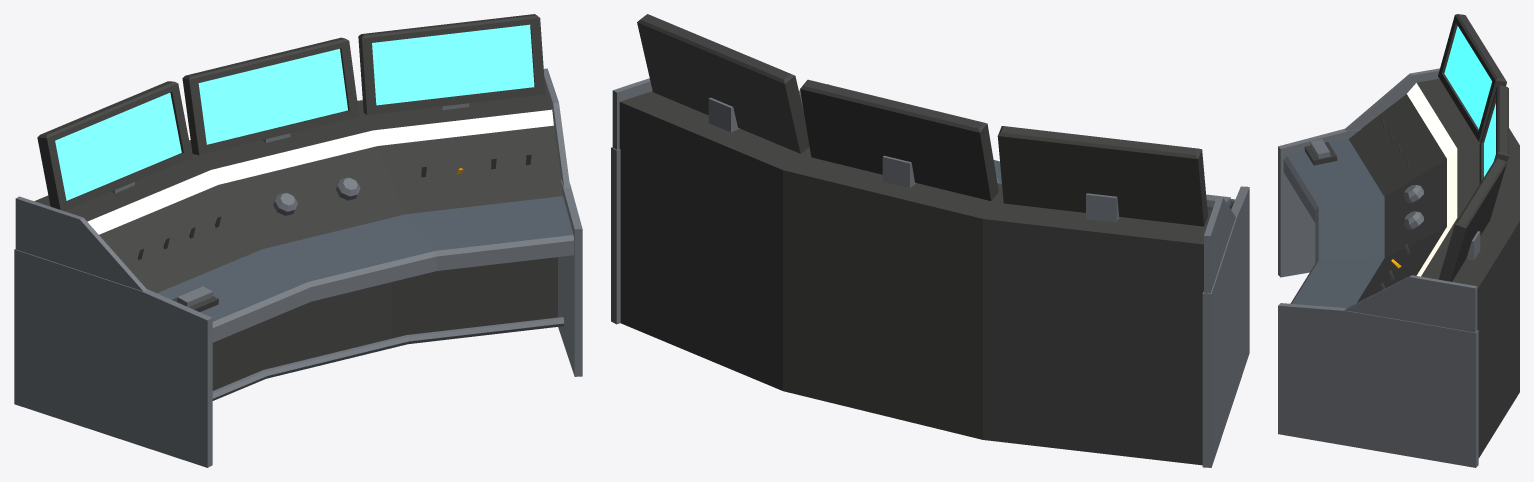
File: control_desk.glb
The picture shows the model from 3 angles, left to right: view 1: azimuth 30°, elevation 25°; view 2: azimuth 150°, elevation 25°; view 3: azimuth 270°, elevation 25°; orthographic projection. The views are drawn at different scales.
Visible parts, largest first — view 1: control_desk; view 2: control_desk; view 3: control_desk.
Boxes of the visible parts, x1=… form: control_desk: x1=14, y1=14, x2=582, y2=467; control_desk: x1=611, y1=14, x2=1249, y2=467; control_desk: x1=1278, y1=14, x2=1519, y2=467.
Size of the model in its own units: 3.07 by 1.49 by 1.38.
